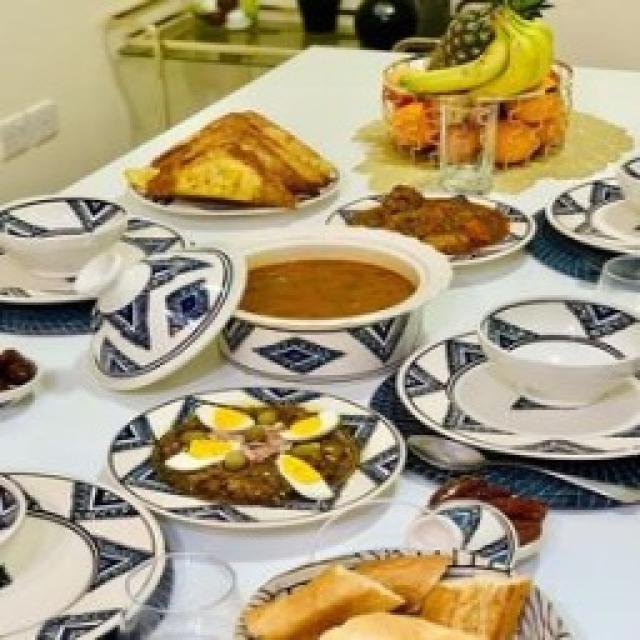Brik: (128, 112, 338, 210)
Salade mechweya: (148, 395, 382, 512)
